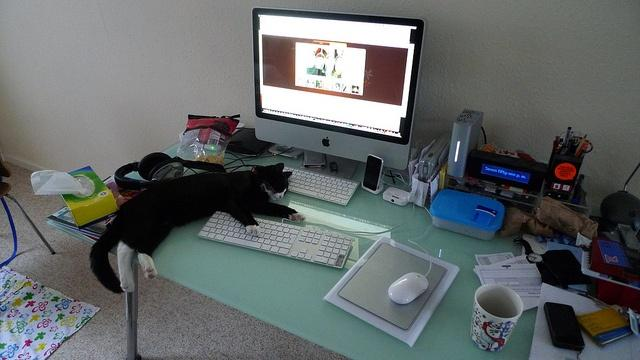AIO PC-Monitor-TV: (251, 6, 426, 182)
